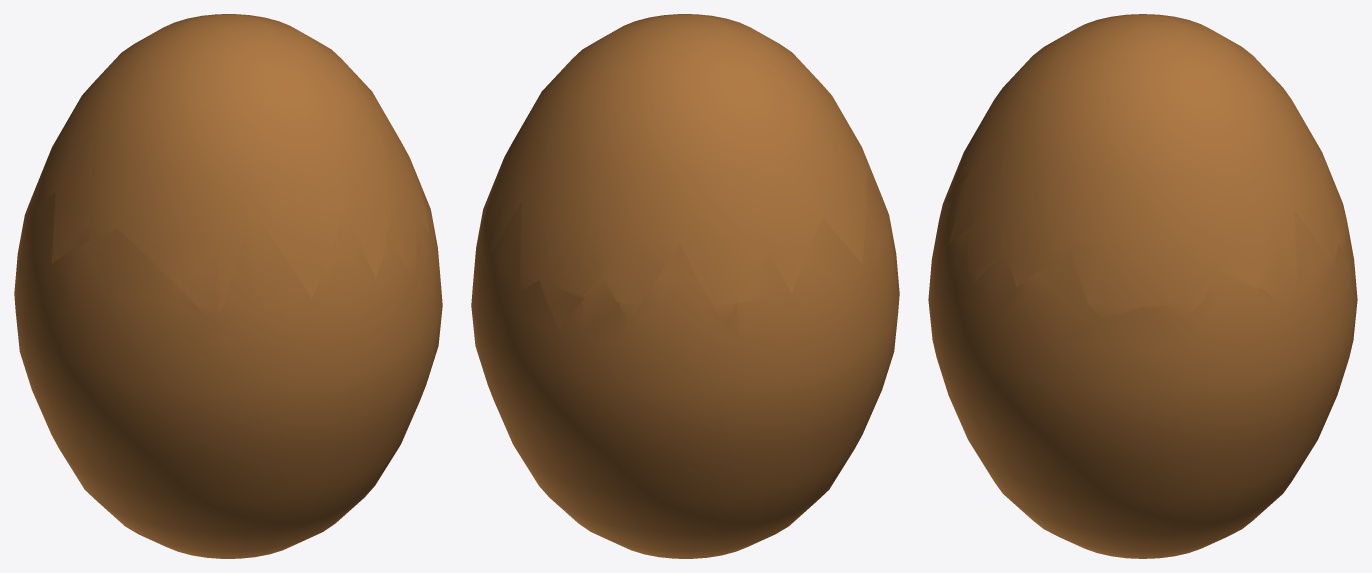
File: Egg.glb
3 views of the same model, side by side, from view 1: azimuth 30°, elevation 25°; view 2: azimuth 150°, elevation 25°; view 3: azimuth 270°, elevation 25° (orthographic).
Parts seen in each view (by area): view 1: Egg Down, Egg Up; view 2: Egg Down, Egg Up; view 3: Egg Down, Egg Up.
Part boxes in pixels (box(x1,y1,x2,y2)): Egg Down: box(14, 171, 442, 558); Egg Up: box(25, 14, 429, 324); Egg Down: box(471, 177, 899, 558); Egg Up: box(483, 14, 874, 329); Egg Down: box(928, 169, 1357, 558); Egg Up: box(942, 14, 1351, 320).
Bounding box in the file's own units: 0.1878 × 0.2487 × 0.1878.
